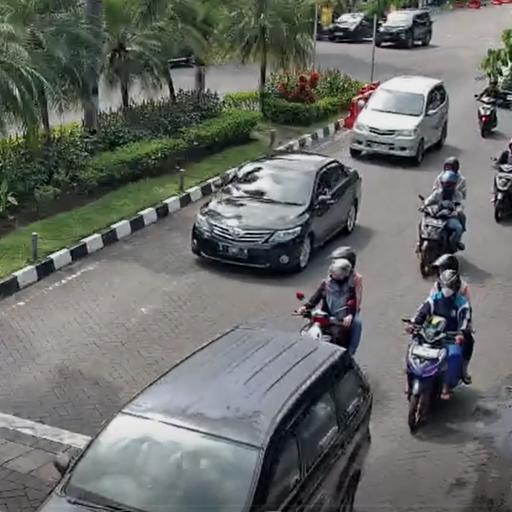mobil: (22, 322, 414, 512), (193, 154, 364, 268), (346, 74, 449, 159), (376, 8, 431, 50)
motor: (399, 315, 480, 437), (416, 189, 467, 280), (488, 154, 512, 224), (476, 86, 503, 139)
